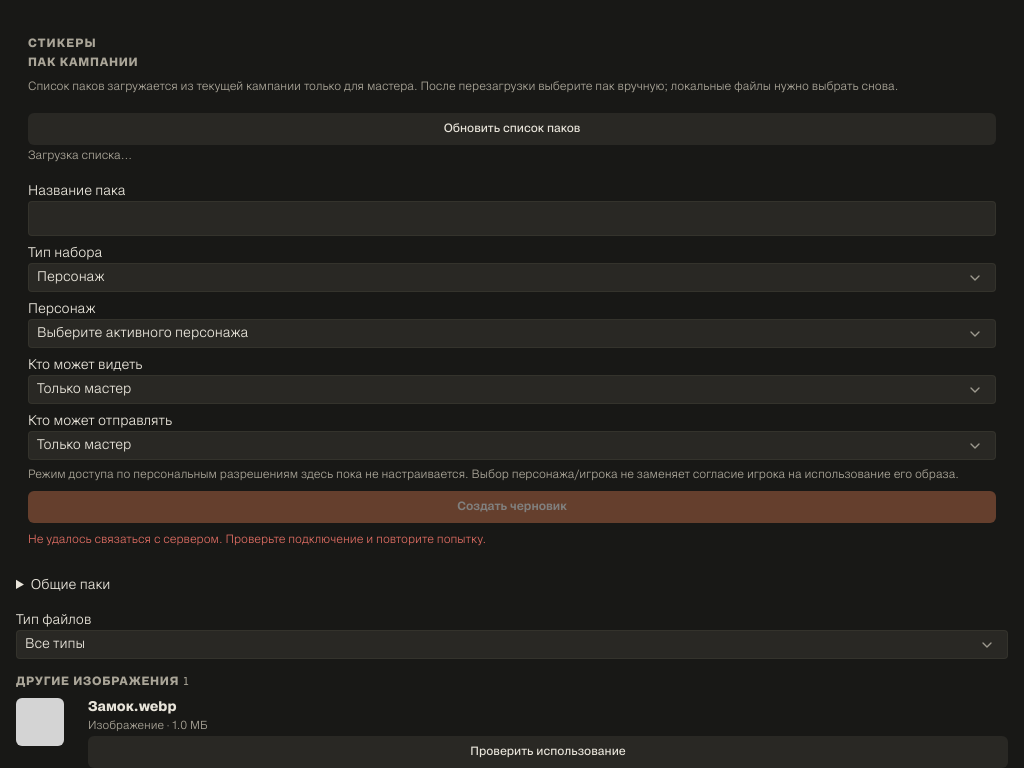
MediaPanel upload sections by role › shows exact usage and does not offer force-delete
The image size is (1024, 768).
(page scrolled)
Click the button "Проверить использование" at (548, 752), box top-left (88, 736), bottom-right (1008, 767)
(page scrolled)
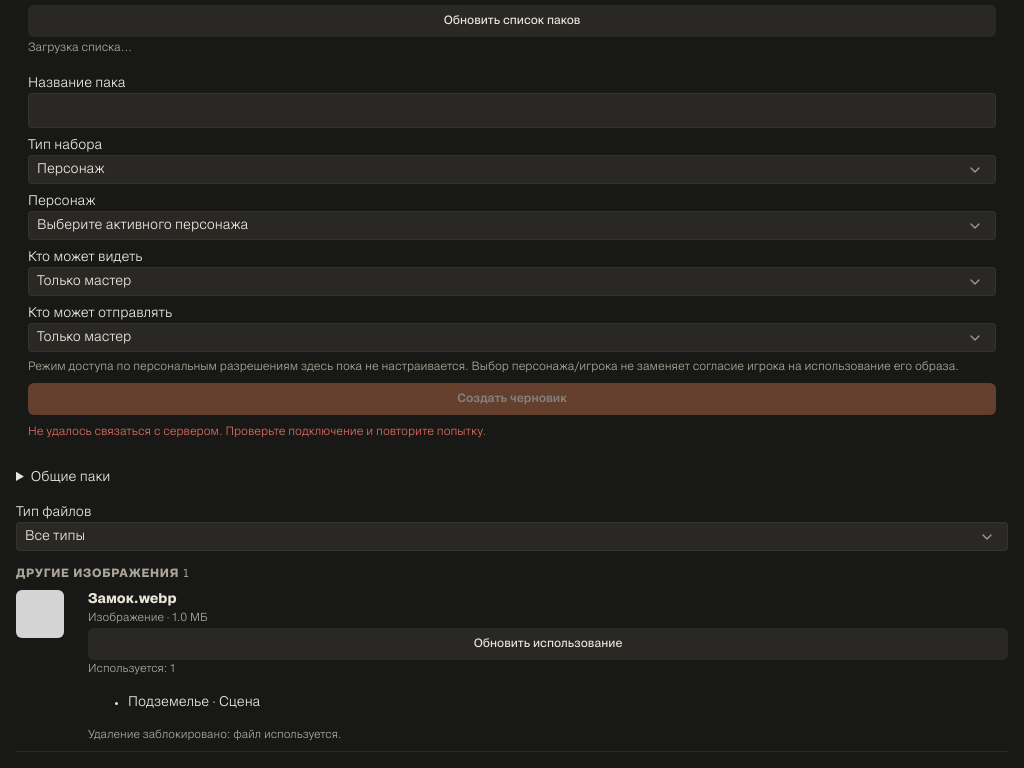
Now the text "Используется: 1" is shown, box top-left (88, 664), bottom-right (175, 674)
Now the list item "Подземелье · Сцена" is shown, box top-left (128, 696), bottom-right (260, 709)
Now the text "Удаление заблокировано: файл используется." is shown, box top-left (88, 730), bottom-right (342, 740)
